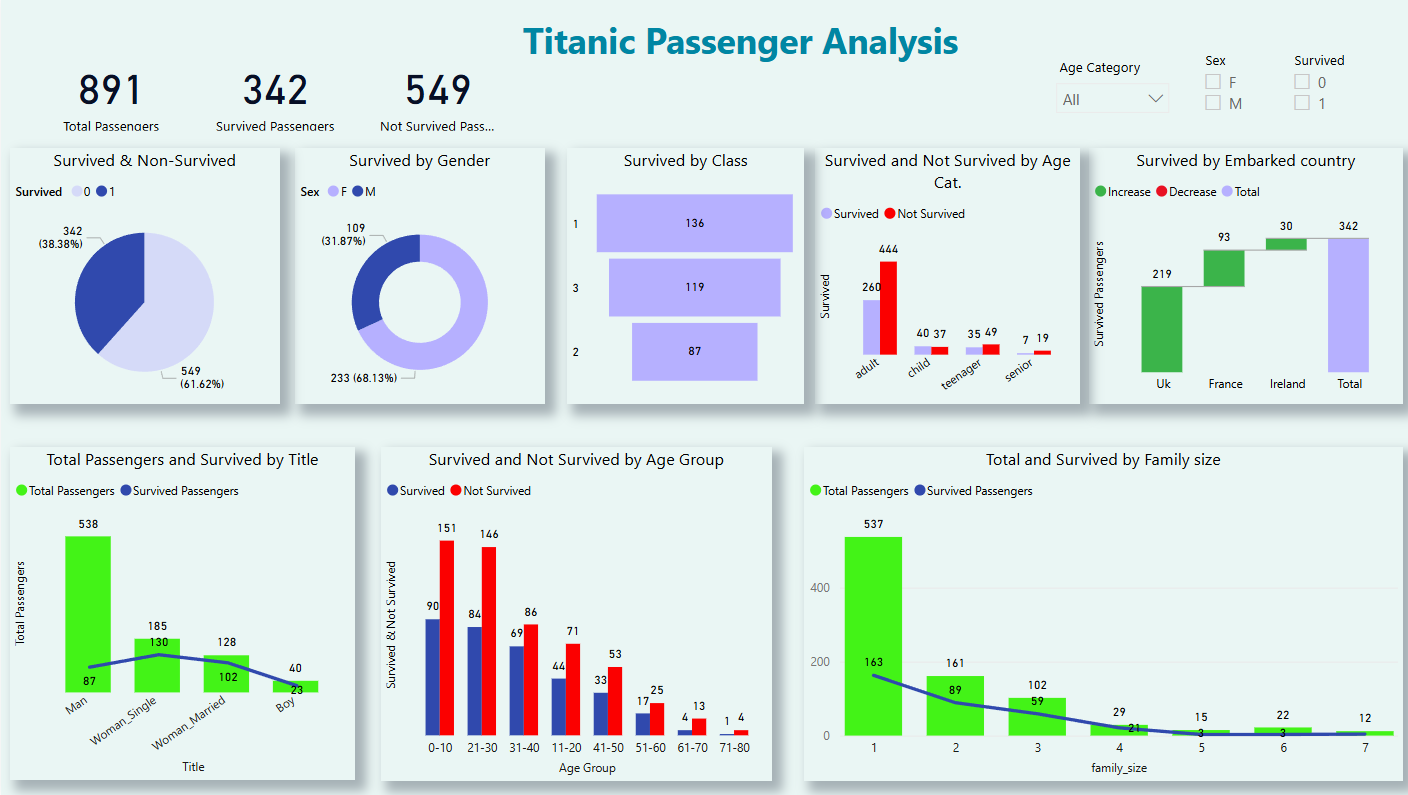

The page's visual inventory and layout, read from the dashboard file:
{"tool":"powerbi","page":{"name":"Survival Insights","canvas":[1280,720],"ordinal":0},"visuals":[{"type":"pieChart","title":"Survived & Non-Survived","fields":{"Y":["Titanic clean dataset.Total Passengers"],"Category":["Titanic clean dataset.Survived"],"Series":["Titanic clean dataset.Survived"]},"box":[8.2,136,243,231.2],"z":0},{"type":"clusteredColumnChart","title":"Survived and Not Survived by Age Cat.","fields":{"Category":["Titanic clean dataset.Age Category"],"Y":["Sum(Titanic clean dataset.Survived)","Titanic clean dataset.Not Survived Passengers"]},"box":[733.4,136.2,239.3,231.5],"z":1000},{"type":"funnel","title":"Survived by Class","fields":{"Category":["Titanic clean dataset.Pclass"],"Y":["Titanic clean dataset.Survived Passengers"]},"box":[509.7,136.2,214,231.5],"z":2000},{"type":"donutChart","title":"Survived by Gender","fields":{"Y":["Sum(Titanic clean dataset.Survived)"],"Category":["Titanic clean dataset.Sex"]},"box":[264.6,136.2,224.7,231.5],"z":3000},{"type":"card","fields":{"Values":["Titanic clean dataset.Total Passengers"]},"box":[37.2,50.8,125.1,75.3],"z":4000},{"type":"card","fields":{"Values":["Titanic clean dataset.Survived Passengers"]},"box":[175.9,50.8,143.3,75.3],"z":5000},{"type":"card","fields":{"Values":["Titanic clean dataset.Not Survived Passengers"]},"box":[335.5,50.8,116.1,75.3],"z":6000},{"type":"slicer","fields":{"Values":["Titanic clean dataset.Survived"]},"box":[1152.5,43.5,98.8,77.1],"z":7000},{"type":"slicer","fields":{"Values":["Titanic clean dataset.Sex"]},"box":[1072.7,43.5,71.6,69.8],"z":9000},{"type":"slicer","fields":{"Values":["Titanic clean dataset.Age Category"]},"box":[940.4,49.9,122.4,58],"z":10000},{"type":"clusteredColumnChart","title":"Survived and Not Survived by Age Group","fields":{"Category":["Titanic clean dataset.Age Group"],"Y":["Titanic clean dataset.Survived Passengers","Titanic clean dataset.Not Survived Passengers"]},"box":[342.4,405.6,352.1,300.5],"z":11000},{"type":"waterfallChart","title":"Survived by Embarked country","fields":{"Category":["Titanic clean dataset.Embarked_country"],"Y":["Titanic clean dataset.Survived Passengers"]},"box":[980.3,136,282.9,231.2],"z":12000},{"type":"lineStackedColumnComboChart","title":"Total and Survived by Family size","fields":{"Category":["Titanic clean dataset.family_size"],"Y":["Titanic clean dataset.Total Passengers"],"Y2":["Titanic clean dataset.Survived Passengers"]},"box":[723.6,405.3,539.5,301.1],"z":13000},{"type":"lineStackedColumnComboChart","title":"Total Passengers and Survived by Title","fields":{"Category":["Titanic clean dataset.mapped_title"],"Y2":["Titanic clean dataset.Survived Passengers"],"Y":["Titanic clean dataset.Total Passengers"]},"box":[8.2,405.3,311,300.2],"z":14000},{"type":"textbox","box":[451.6,11.8,429.8,56.2],"z":15000}]}

Visuals, with their boxes in screenshot pixels (x1, y1, x2, y2), scaled from the page's 1280x720 canvas onto the 1408x795 screenshot:
"Survived & Non-Survived" pieChart: bbox(9, 150, 276, 405)
"Survived and Not Survived by Age Cat." clusteredColumnChart: bbox(807, 150, 1070, 406)
"Survived by Class" funnel: bbox(561, 150, 796, 406)
"Survived by Gender" donutChart: bbox(291, 150, 538, 406)
card - Titanic clean dataset.Total Passengers: bbox(41, 56, 179, 139)
card - Titanic clean dataset.Survived Passengers: bbox(193, 56, 351, 139)
card - Titanic clean dataset.Not Survived Passengers: bbox(369, 56, 497, 139)
slicer - Titanic clean dataset.Survived: bbox(1268, 48, 1376, 133)
slicer - Titanic clean dataset.Sex: bbox(1180, 48, 1259, 125)
slicer - Titanic clean dataset.Age Category: bbox(1034, 55, 1169, 119)
"Survived and Not Survived by Age Group" clusteredColumnChart: bbox(377, 448, 764, 780)
"Survived by Embarked country" waterfallChart: bbox(1078, 150, 1390, 405)
"Total and Survived by Family size" lineStackedColumnComboChart: bbox(796, 448, 1389, 780)
"Total Passengers and Survived by Title" lineStackedColumnComboChart: bbox(9, 448, 351, 779)
textbox: bbox(497, 13, 970, 75)
